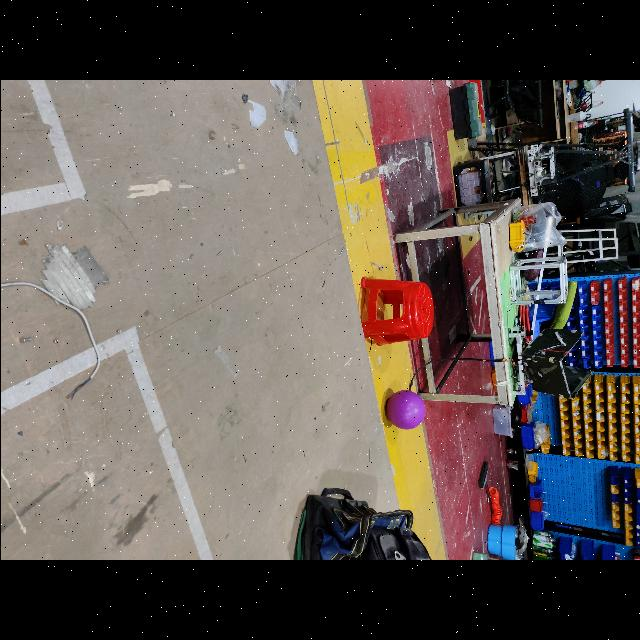P: (384, 392, 424, 430)
